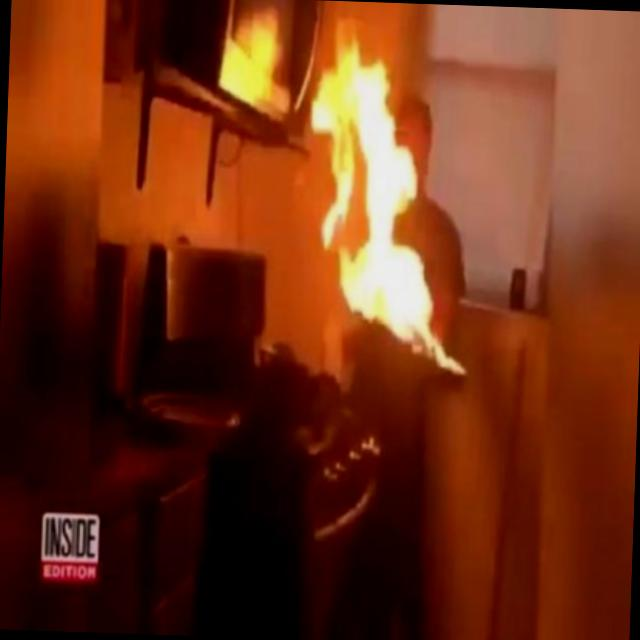fire: (198, 0, 488, 375)
